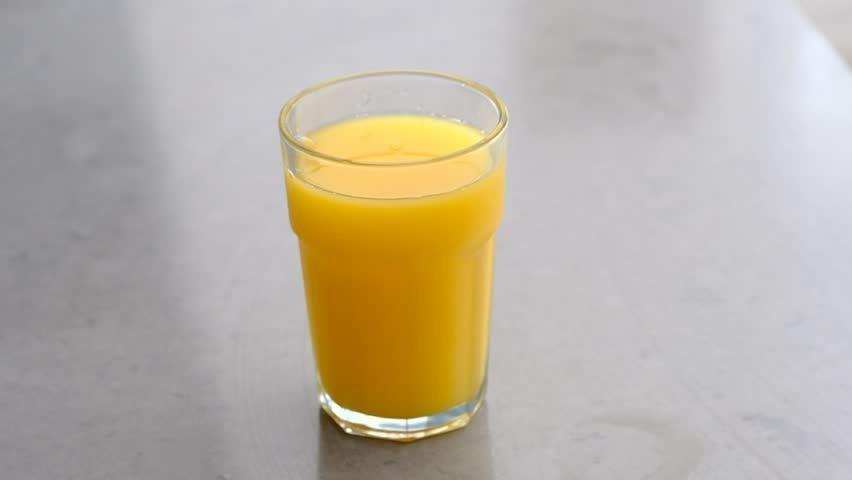glass-normal: (276, 66, 512, 441)
